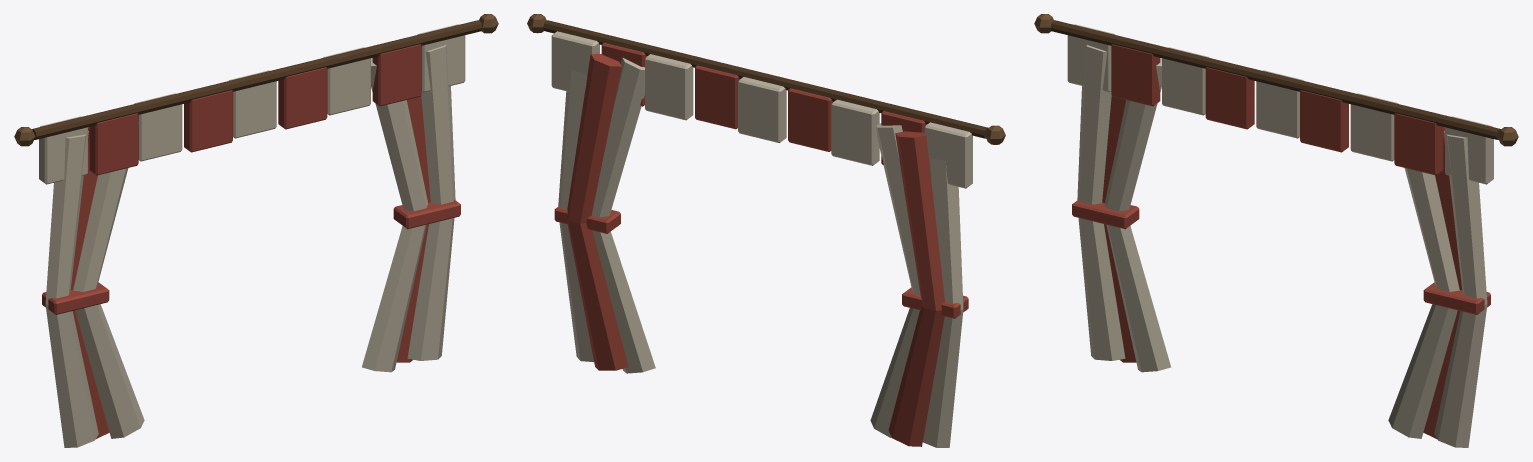
Rendered from prop_curtains.glb.
The picture shows the model from 3 angles, left to right: view 1: azimuth 30°, elevation 25°; view 2: azimuth 150°, elevation 25°; view 3: azimuth 330°, elevation 25°; orthographic projection.
Parts seen in each view (by area): view 1: prop_curtains; view 2: prop_curtains; view 3: prop_curtains.
Part boxes in pixels (x1,y1,x2,y2): prop_curtains: (14, 14, 498, 447); prop_curtains: (527, 14, 1005, 447); prop_curtains: (1034, 14, 1518, 447).
Size of the model in its own units: 1.65 by 1.11 by 0.1192.
